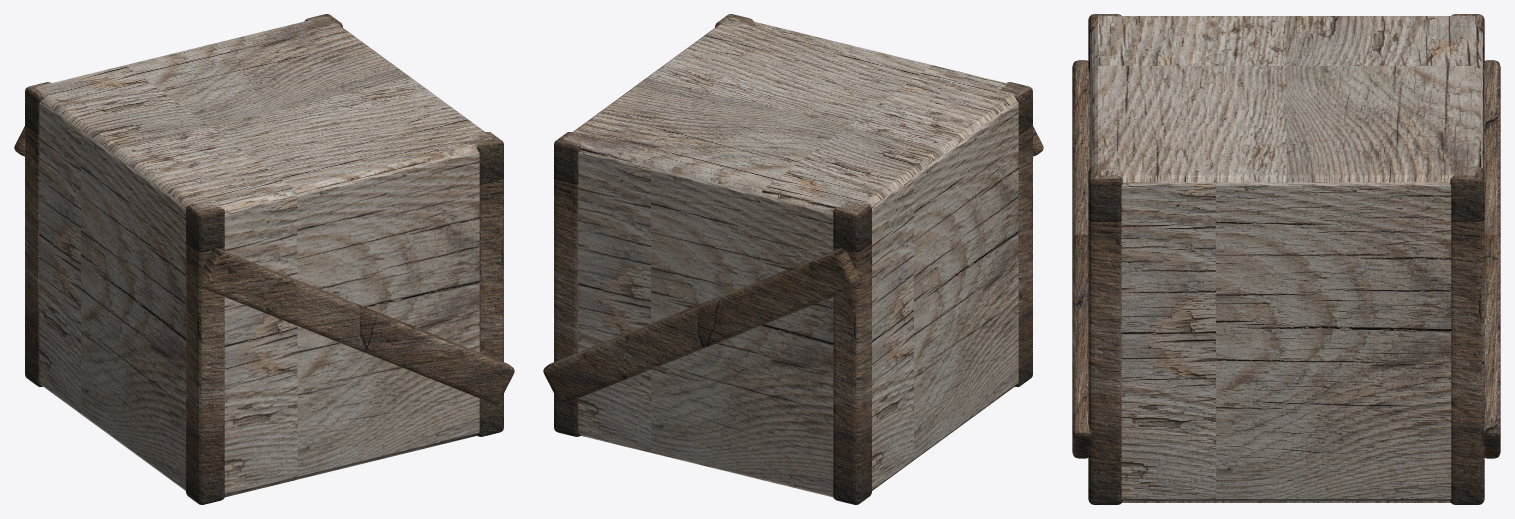
The model's file is crate-v02.glb.
The picture shows the model from 3 angles, left to right: view 1: azimuth 30°, elevation 25°; view 2: azimuth 150°, elevation 25°; view 3: azimuth 270°, elevation 25°; orthographic projection. The views are drawn at different scales.
Visible parts, largest first — view 1: crate; view 2: crate; view 3: crate.
Part boxes in pixels (x1,y1,x2,y2): crate: (14,14,514,504); crate: (543,14,1043,504); crate: (1072,14,1500,504).
Bounding box in the file's own units: 1.03 × 0.92 × 1.09.
2 materials, 2 textured.
